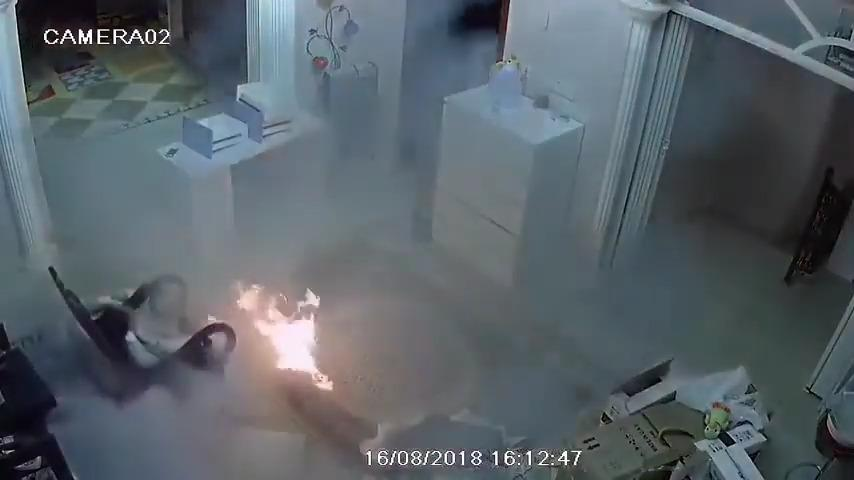fire: (237, 283, 334, 391)
